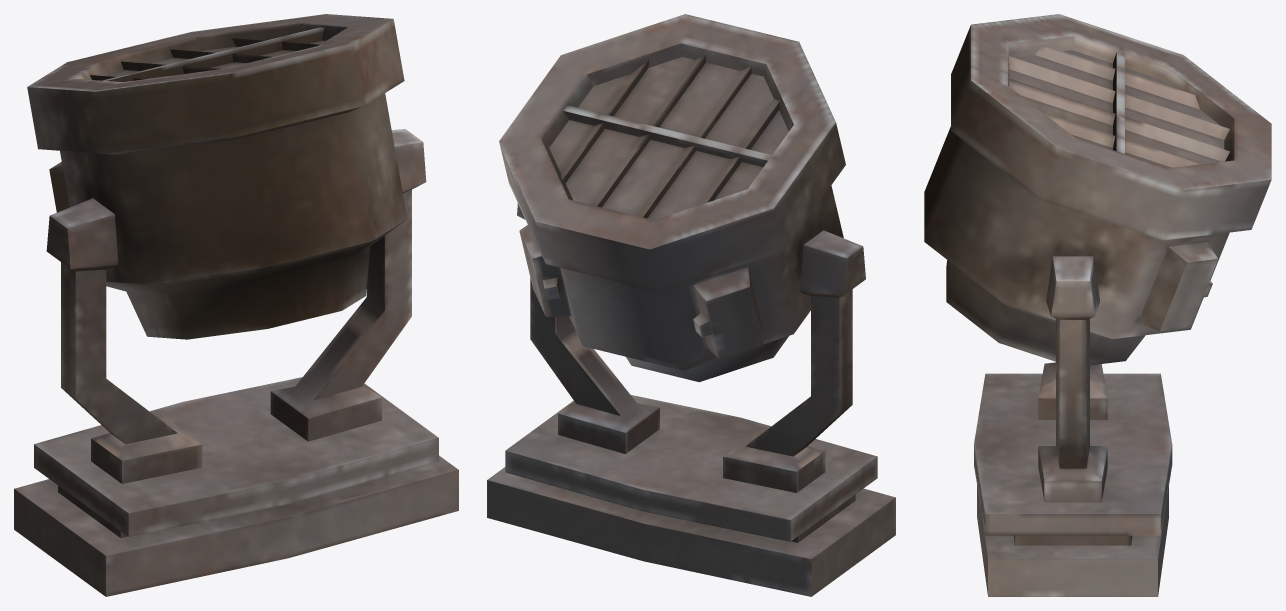
Rendered from SearchLight.fbx.
3 renders of one model, left to right at view 1: azimuth 30°, elevation 25°; view 2: azimuth 150°, elevation 25°; view 3: azimuth 270°, elevation 25°, orthographic. The views are drawn at different scales.
Visible parts, largest first — view 1: SearchlightHead, Searchlight; view 2: SearchlightHead, Searchlight; view 3: SearchlightHead, Searchlight.
Boxes of the visible parts, bbox=[...] form: SearchlightHead: bbox=[27, 14, 407, 339]; Searchlight: bbox=[14, 129, 458, 596]; SearchlightHead: bbox=[499, 14, 845, 382]; Searchlight: bbox=[487, 203, 895, 596]; SearchlightHead: bbox=[924, 14, 1271, 365]; Searchlight: bbox=[974, 256, 1172, 596].
Size of the model in its own units: 42.44 by 57.21 by 38.76.
